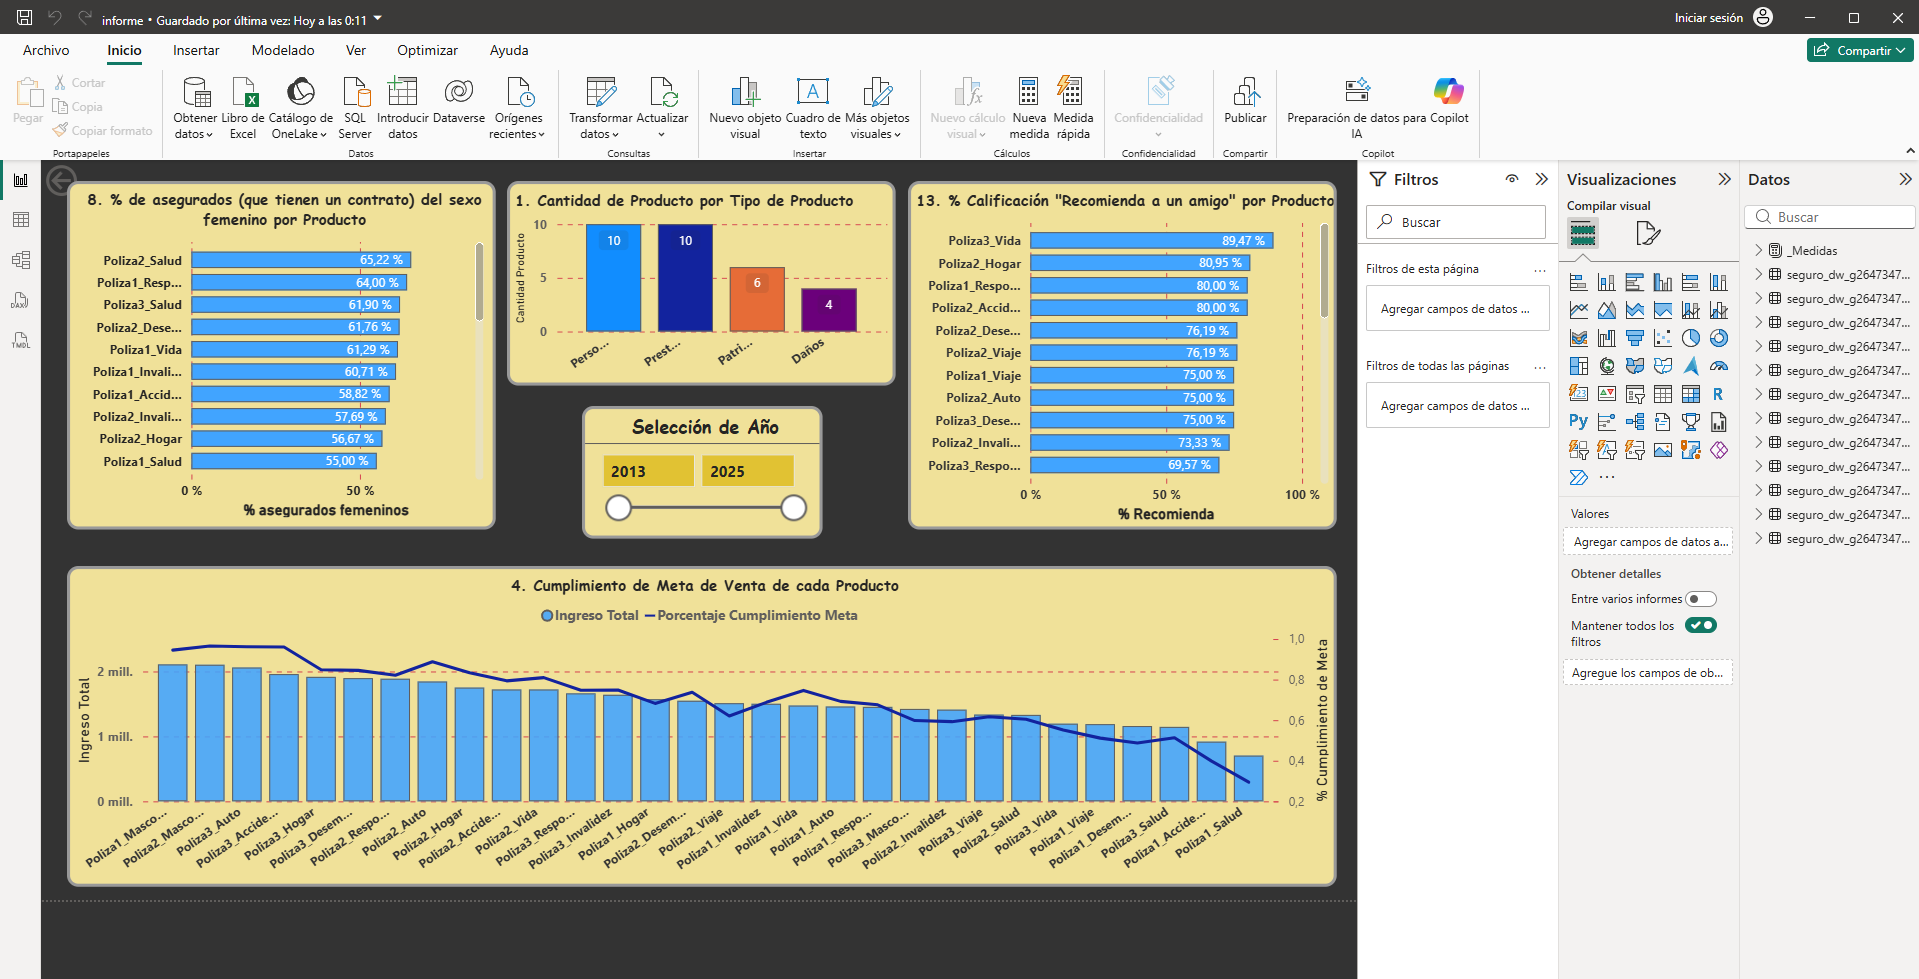

The page's visual inventory and layout, read from the dashboard file:
{"tool":"powerbi","page":{"name":"Página 1","canvas":[1280,720],"ordinal":0},"visuals":[{"type":"columnChart","title":"1. Cantidad de Producto por Tipo de Producto","fields":{"Category":["seguro_dw_g26473471 dim_producto.nb_tipo_producto"],"Y":["_Medidas.Cantidad Producto"],"Series":["seguro_dw_g26473471 dim_producto.nb_tipo_producto"]},"box":[453.3,20.4,378.4,199.4],"z":0},{"type":"actionButton","box":[0,0,100,40],"z":1000},{"type":"lineClusteredColumnComboChart","title":"4. Cumplimiento de Meta de Venta de cada Producto","fields":{"Category":["seguro_dw_g26473471 dim_producto.nb_producto"],"Y":["_Medidas.Ingreso Total"],"Y2":["_Medidas.Porcentaje Cumplimiento Meta"]},"box":[25.3,394.9,1235.3,312.2],"z":2000},{"type":"clusteredBarChart","title":"13. % Calificación \"Recomienda a un amigo\" por Producto","fields":{"Category":["seguro_dw_g26473471 dim_producto.nb_producto"],"Y":["_Medidas.Porcentaje Recomendaria"]},"box":[843.3,20.4,417.3,339.5],"z":3000},{"type":"clusteredBarChart","title":"8. % de asegurados (que tienen un contrato) del sexo femenino por Producto","fields":{"Y":["_Medidas.Porcentaje Asegurados Femenino"],"Category":["seguro_dw_g26473471 dim_producto.nb_producto"]},"box":[25.3,20.4,417.3,339.5],"z":4000},{"type":"slicer","title":"Selección de Año","fields":{"Values":["seguro_dw_g26473471 dim_tiempo.cod_annio"]},"box":[525.8,239.4,233.9,129],"z":4001}]}

Visuals, with their boxes on the page's 1280x720 design canvas (x1, y1, x2, y2). These are canvas units, not pixel positions in the 1919x979 screenshot, which may show the page scaled, cropped or inside an application window:
"1. Cantidad de Producto por Tipo de Producto" columnChart: [left=453, top=20, right=832, bottom=220]
actionButton: [left=0, top=0, right=100, bottom=40]
"4. Cumplimiento de Meta de Venta de cada Producto" lineClusteredColumnComboChart: [left=25, top=395, right=1261, bottom=707]
"13. % Calificación "Recomienda a un amigo" por Producto" clusteredBarChart: [left=843, top=20, right=1261, bottom=360]
"8. % de asegurados (que tienen un contrato) del sexo femenino por Producto" clusteredBarChart: [left=25, top=20, right=443, bottom=360]
"Selección de Año" slicer: [left=526, top=239, right=760, bottom=368]
